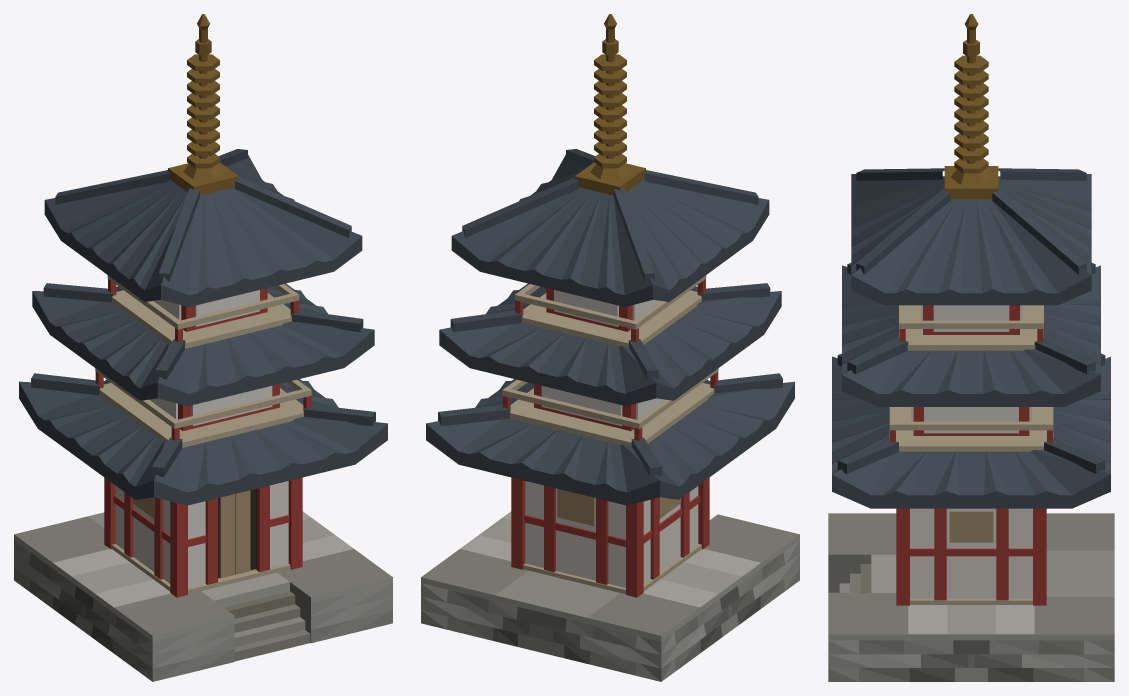
File: tiered-pagoda-f4ade0.glb
3 renders of one model, left to right at view 1: azimuth 30°, elevation 25°; view 2: azimuth 150°, elevation 25°; view 3: azimuth 270°, elevation 25°, orthographic. The views are drawn at different scales.
Visible parts, largest first — view 1: tiered-pagoda, door-r, door-l; view 2: tiered-pagoda; view 3: tiered-pagoda.
Boxes of the visible parts, box(x1,y1,x2,y2) form: tiered-pagoda: box(14, 14, 392, 681); door-r: box(235, 489, 256, 574); door-l: box(218, 494, 234, 578); tiered-pagoda: box(421, 14, 799, 681); tiered-pagoda: box(828, 14, 1114, 681).
Size of the model in its own units: 6 by 14.02 by 6.
